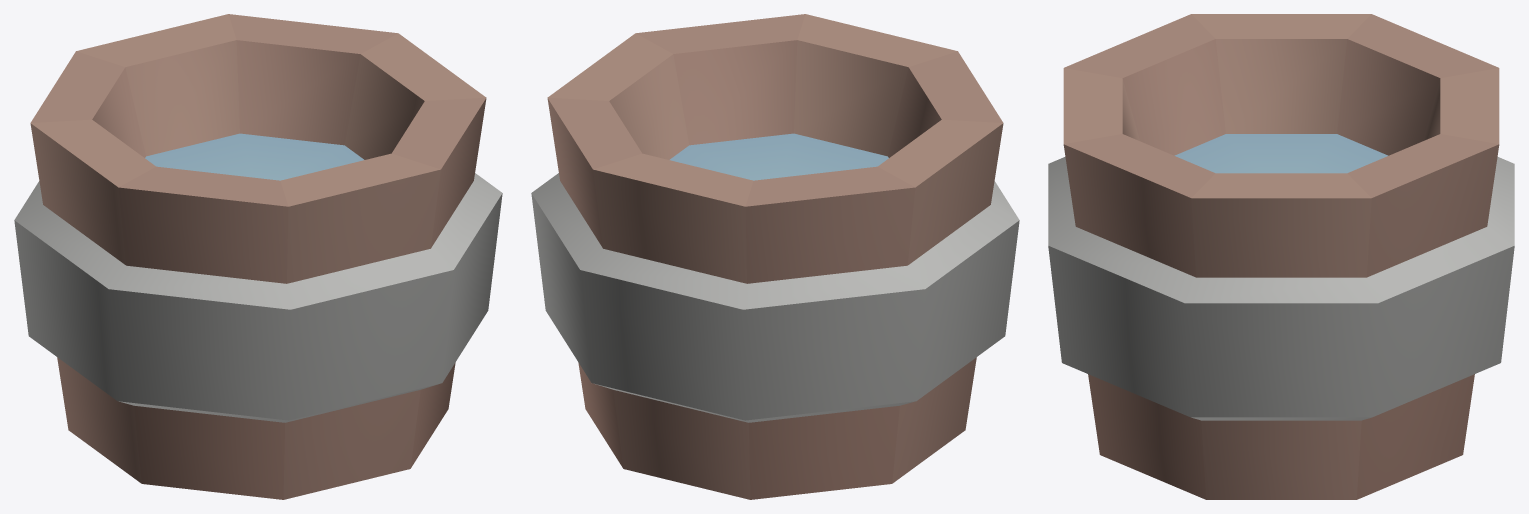
The model's file is bucket.gltf.
The picture shows the model from 3 angles, left to right: view 1: azimuth 30°, elevation 25°; view 2: azimuth 150°, elevation 25°; view 3: azimuth 270°, elevation 25°; orthographic projection. The views are drawn at different scales.
Parts seen in each view (by area): view 1: bucket; view 2: bucket; view 3: bucket.
Part boxes in pixels (box(x1,y1,x2,y2)): bucket: box(14, 14, 502, 499); bucket: box(531, 14, 1019, 499); bucket: box(1048, 14, 1514, 499).
Size of the model in its own units: 0.14 by 0.105 by 0.14.
